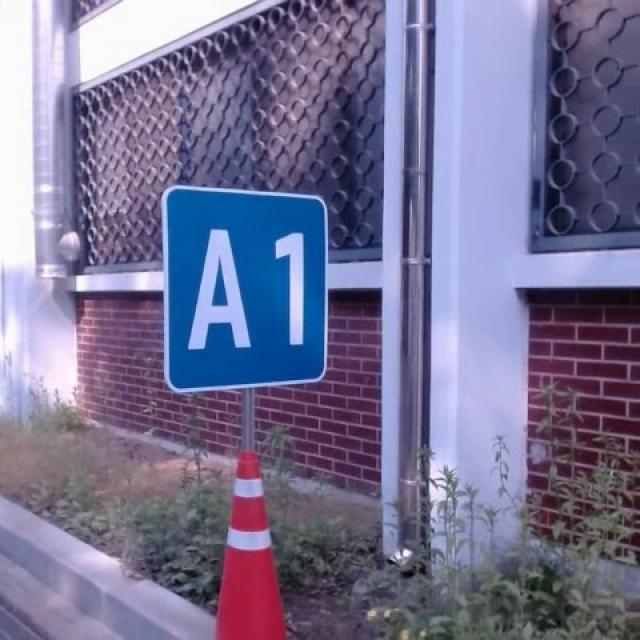a1: (157, 178, 328, 396)
